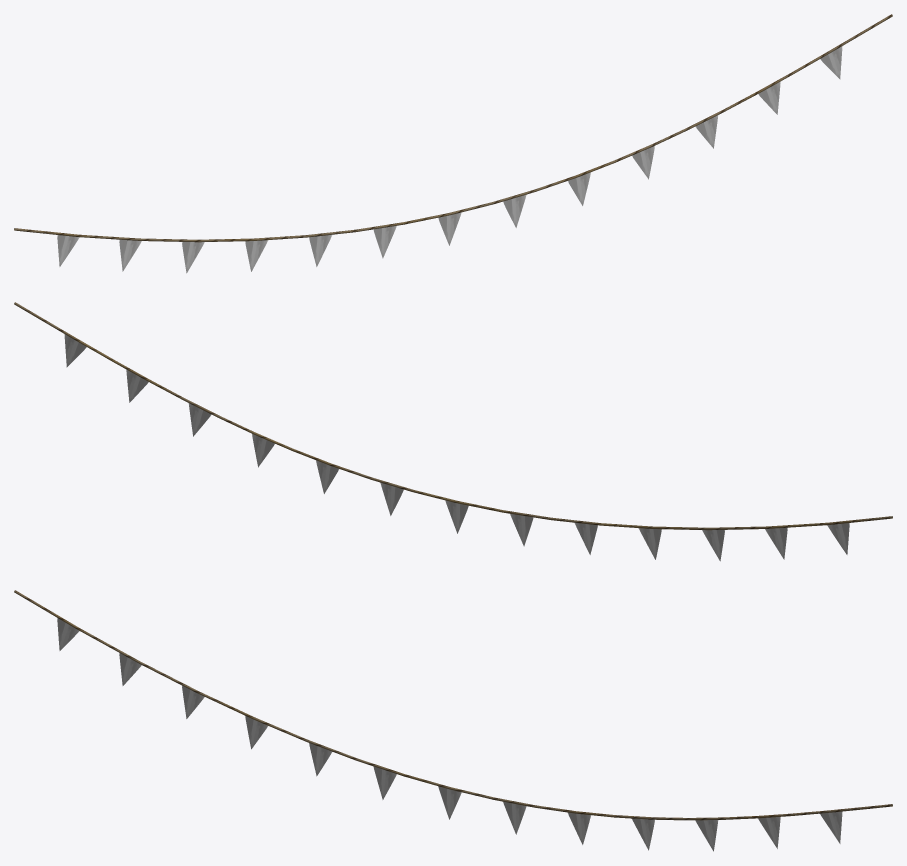
The model's file is Banner_SmallTriangles_Medium.fbx.
3 renders of one model, top to bottom at view 1: azimuth 30°, elevation 25°; view 2: azimuth 150°, elevation 25°; view 3: azimuth 330°, elevation 25°, orthographic.
Parts seen in each view (by area): view 1: Banner_SmallTriangles_Medium; view 2: Banner_SmallTriangles_Medium; view 3: Banner_SmallTriangles_Medium.
Part boxes in pixels (box(x1,y1,x2,y2)): Banner_SmallTriangles_Medium: box(14, 14, 892, 273); Banner_SmallTriangles_Medium: box(14, 302, 892, 561); Banner_SmallTriangles_Medium: box(14, 590, 892, 851).
Size of the model in its own units: 1551 by 209 by 3.89.
